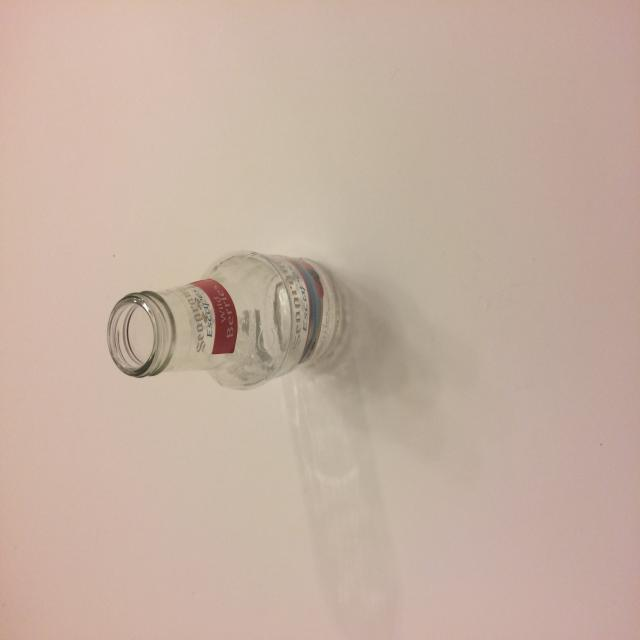glass: (107, 252, 346, 394)
